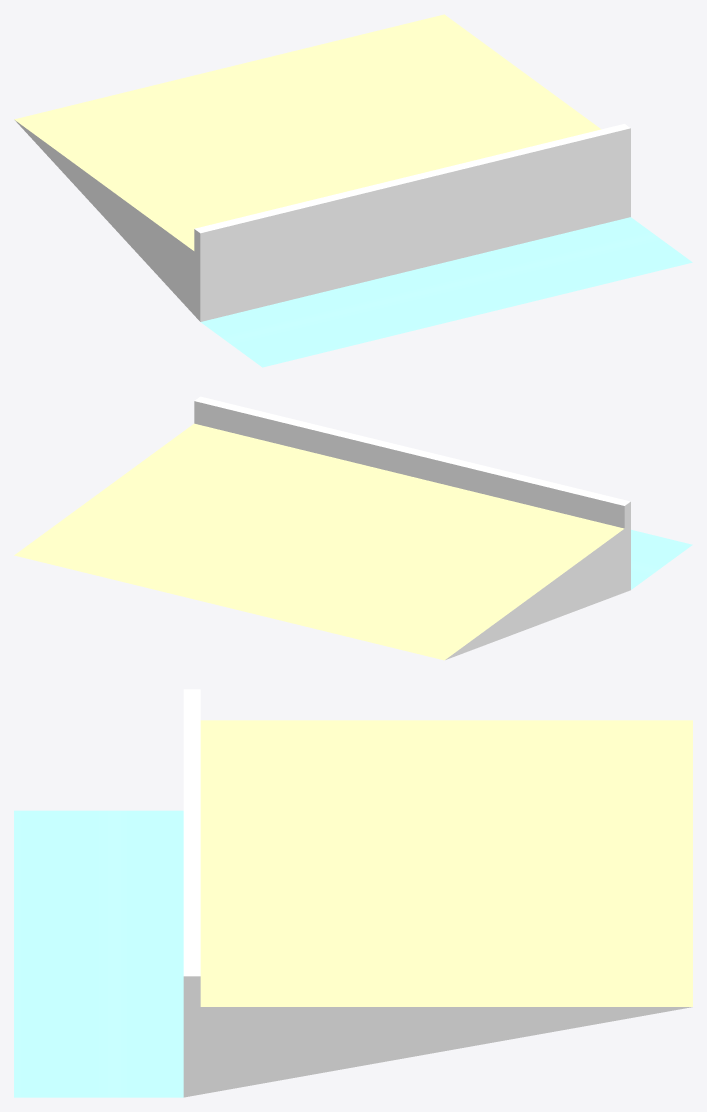
File: port_tile_1x1_1.glb
3 views of the same model, one above another, from view 1: azimuth 30°, elevation 25°; view 2: azimuth 150°, elevation 25°; view 3: azimuth 270°, elevation 25° (orthographic). The views are drawn at different scales.
Parts seen in each view (by area): view 1: port_tile_1x1_1(Clone); view 2: port_tile_1x1_1(Clone); view 3: port_tile_1x1_1(Clone).
Boxes of the visible parts, bbox=[...] form: port_tile_1x1_1(Clone): bbox=[14, 14, 692, 367]; port_tile_1x1_1(Clone): bbox=[14, 396, 692, 660]; port_tile_1x1_1(Clone): bbox=[14, 689, 692, 1097].
Bounding box in the file's own units: 8 × 1.58 × 8.
Materials: 1 (1 with a texture image).
